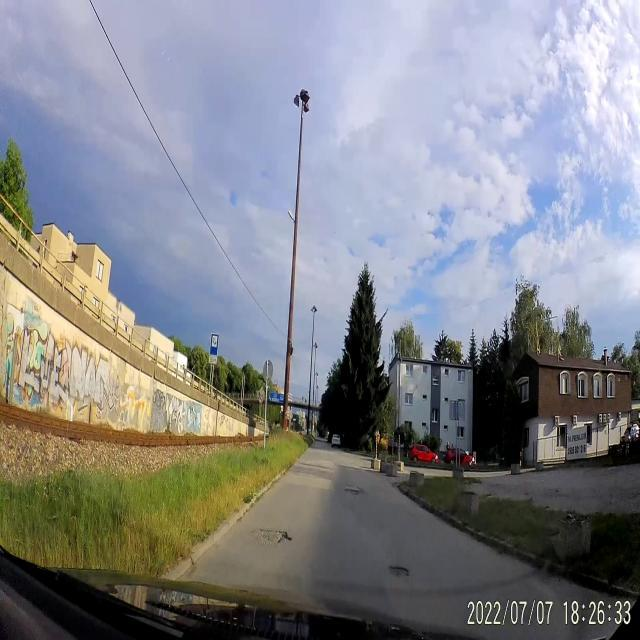Pothole: (237, 520, 298, 550), (386, 559, 413, 581), (341, 479, 368, 501)
